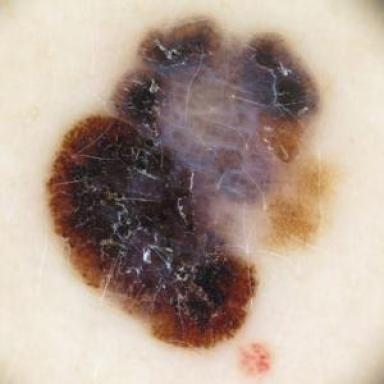Melanoma: (48, 19, 330, 347)
